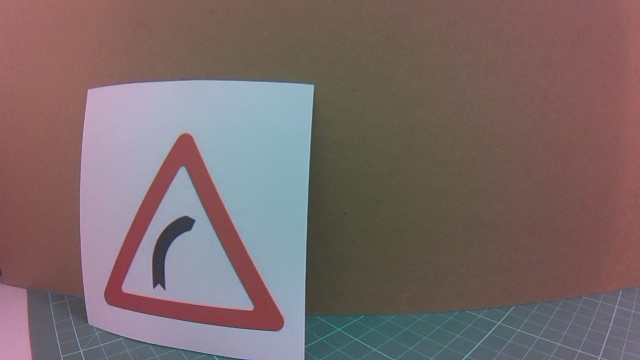right: (89, 149, 289, 325)
